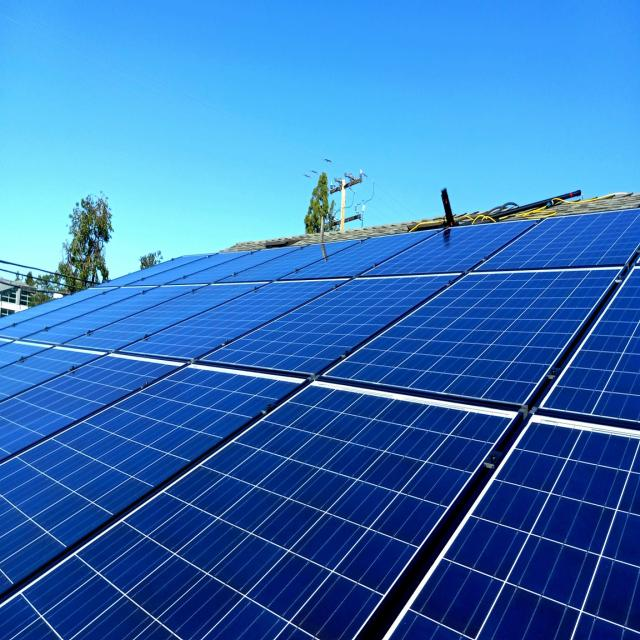clean-solar-panel: (1, 196, 640, 638)
